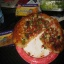pizza: (15, 13, 61, 50)
